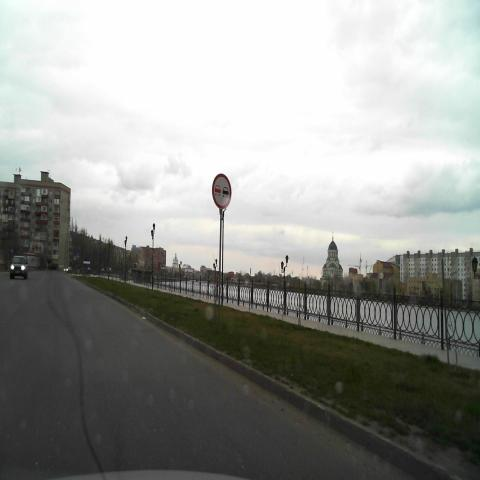3_20: (211, 171, 233, 211)
